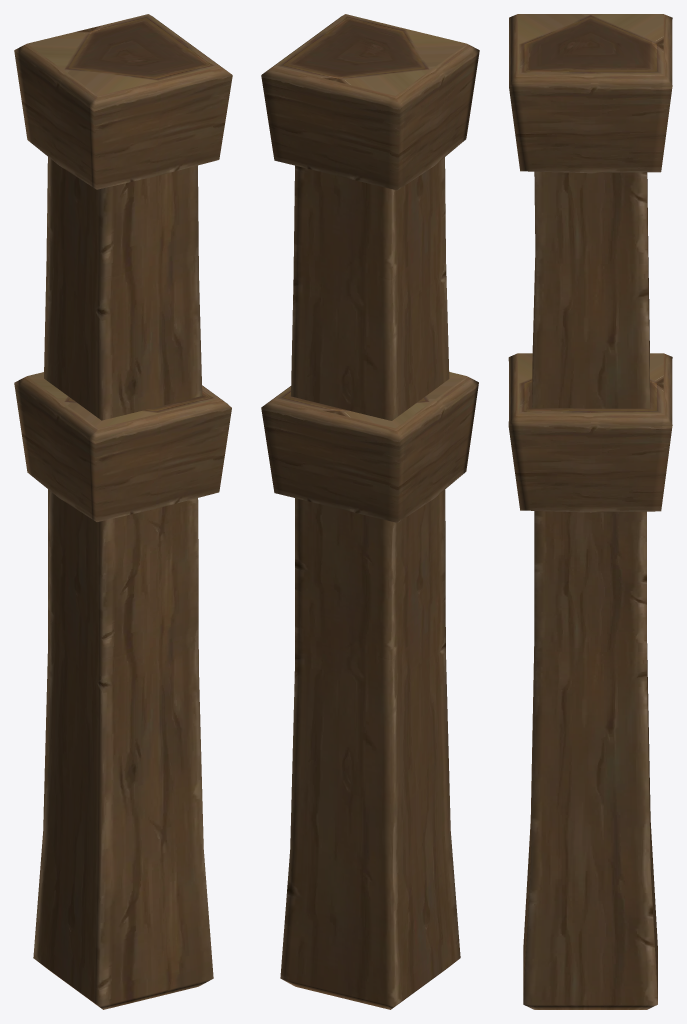
3 renders of one model, left to right at view 1: azimuth 30°, elevation 25°; view 2: azimuth 150°, elevation 25°; view 3: azimuth 270°, elevation 25°, orthographic. The views are drawn at different scales.
Size of the model in its own units: 1.74 by 11.11 by 1.75.
Materials: 2 (2 with a texture image).
